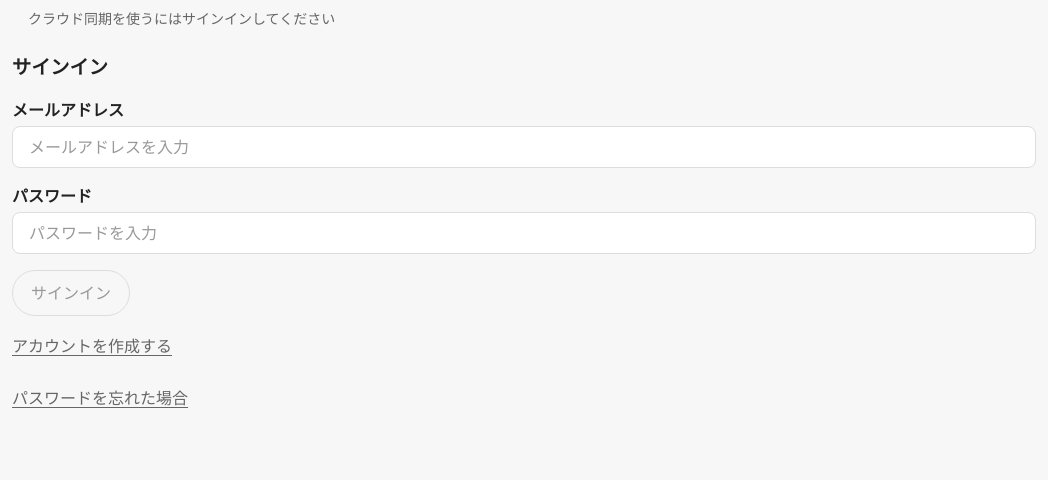
Test case: CloudSyncAccountPanel › サインイン › サインイン時にエラーが発生するとその旨が表示される
The width and height of the screenshot is (1048, 480).
In the field labelled "メールアドレス": coordinates (524, 147) [12, 126, 1036, 168], type " user@example.com "
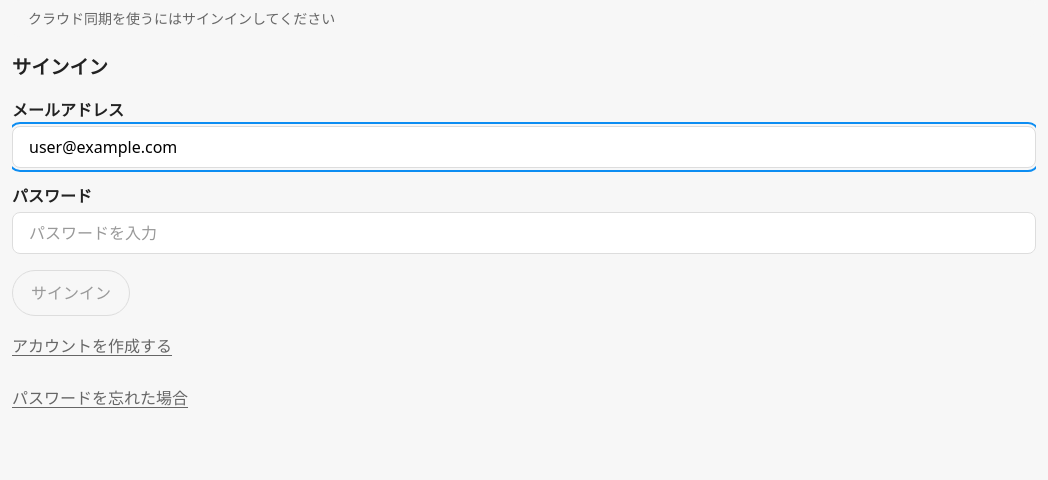
In the password field labelled "パスワード": coordinates (524, 233) [12, 212, 1036, 254], type "Passw0rd!"
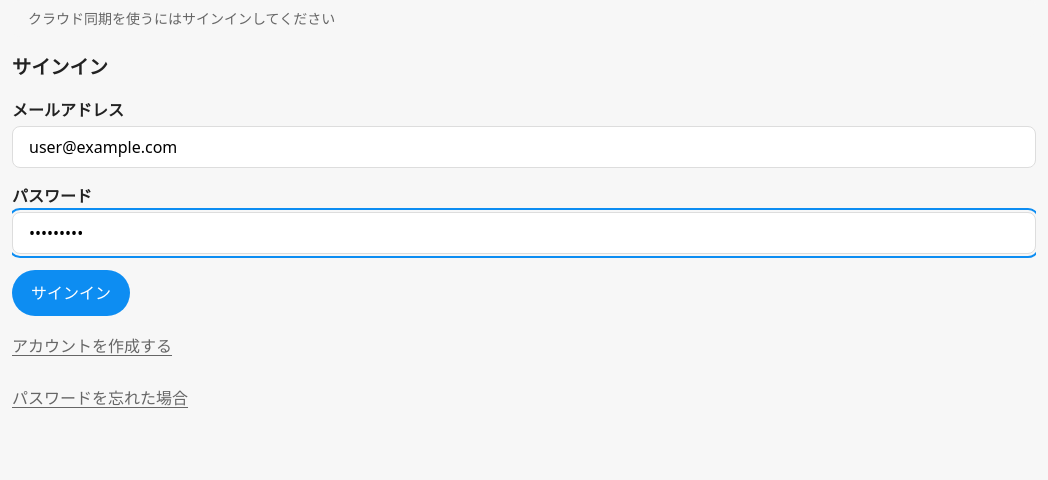
Check: the button "サインイン" is enabled
Click the button "サインイン": coordinates (71, 293) [12, 270, 130, 316]
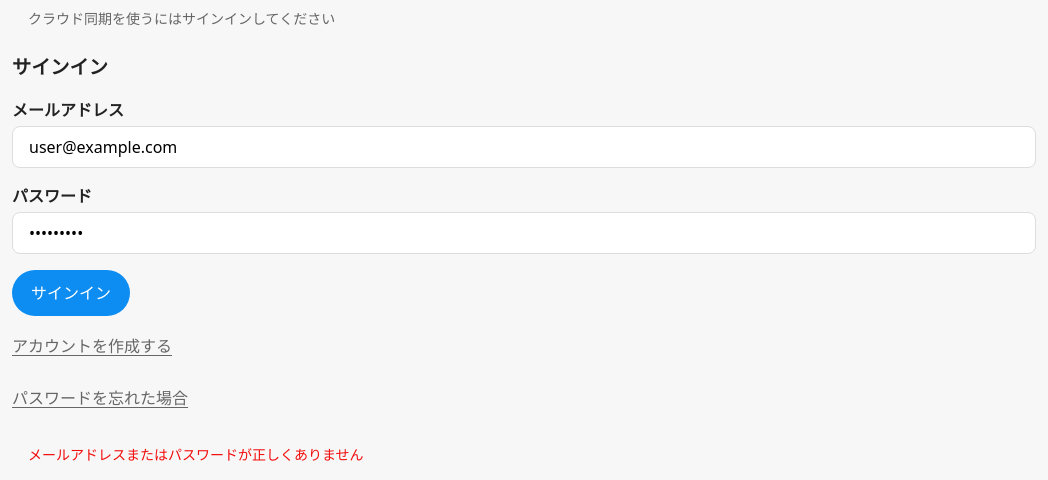
Check: the message reads "メールアドレスまたはパスワードが正しくありません", box [28, 445, 364, 464]
